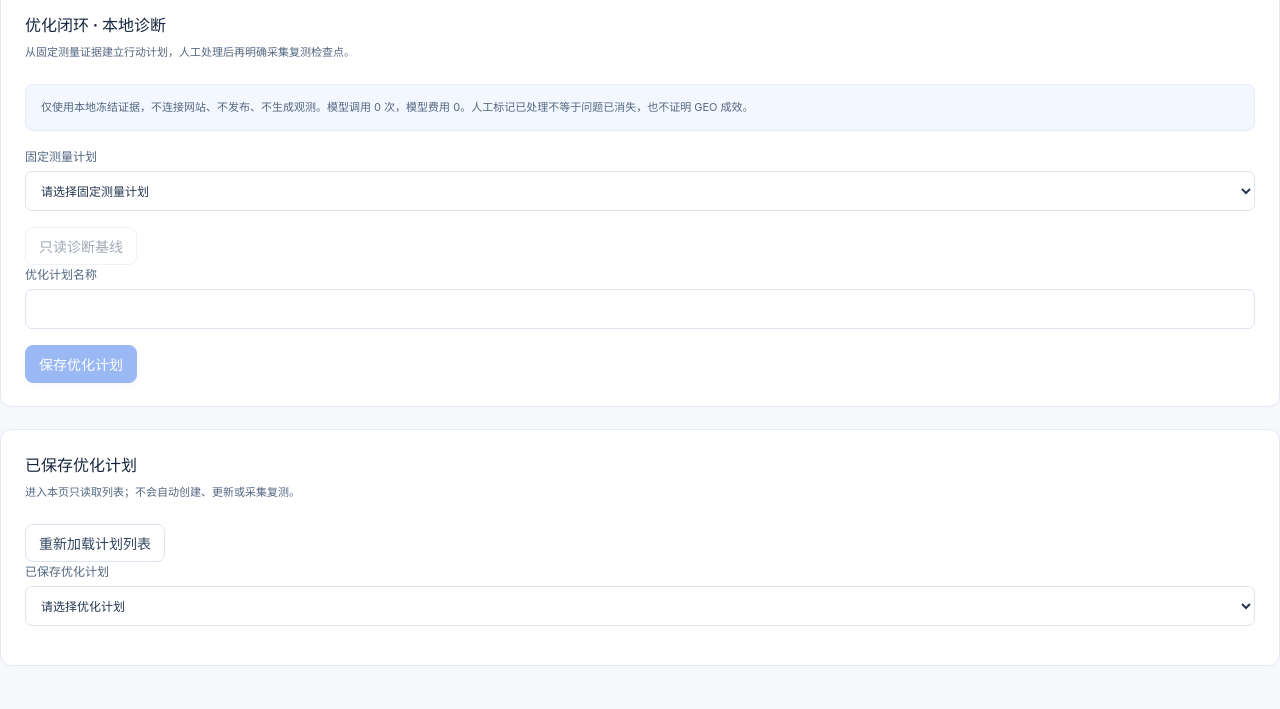
Test: action_status_is_distinct_from_latest_detection_and_requires_done_note
The image size is (1280, 709).
Select "虚构优化计划 · 模拟数据 · v1 · 检查点 1 · 行动 0/1" in the dropdown labelled "已保存优化计划": (640, 606) [25, 586, 1255, 626]
(page scrolled)
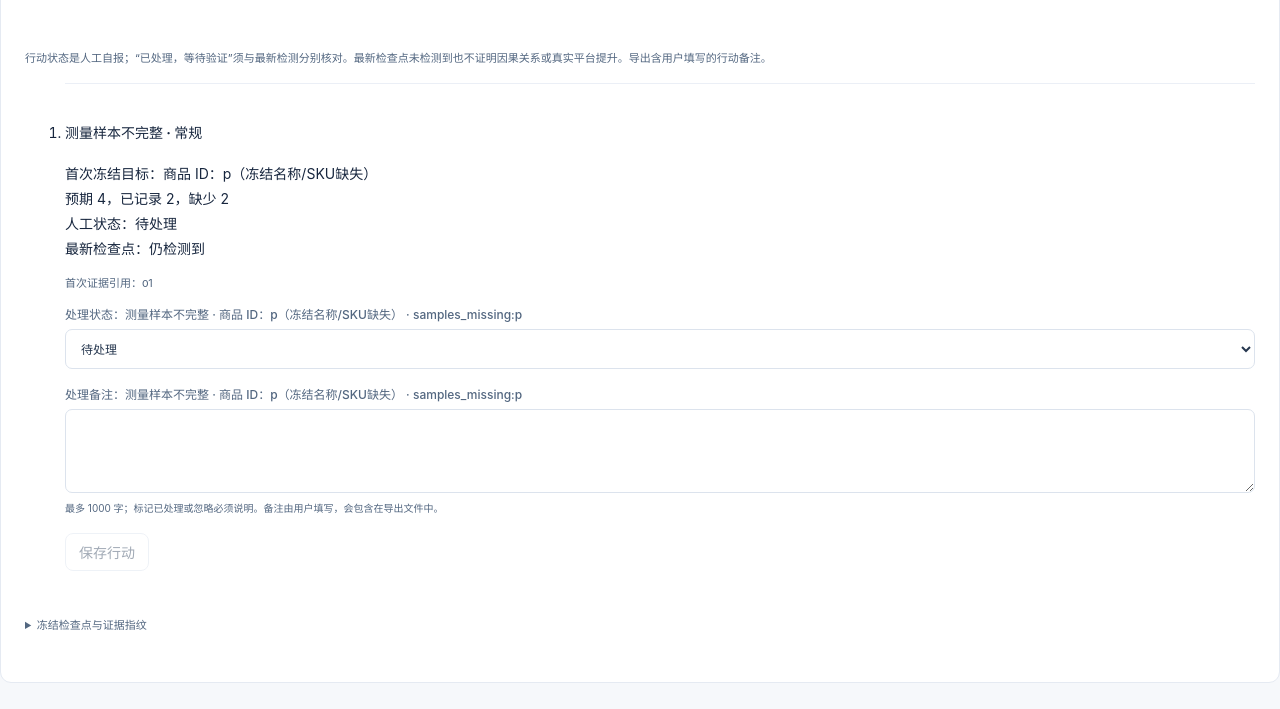
Select "已处理，等待验证" in the dropdown labelled "处理状态：测量样本不完整 · 商品 ID：p（冻结名称/SKU缺失） · samples_missing:p": (660, 349) [65, 329, 1255, 369]
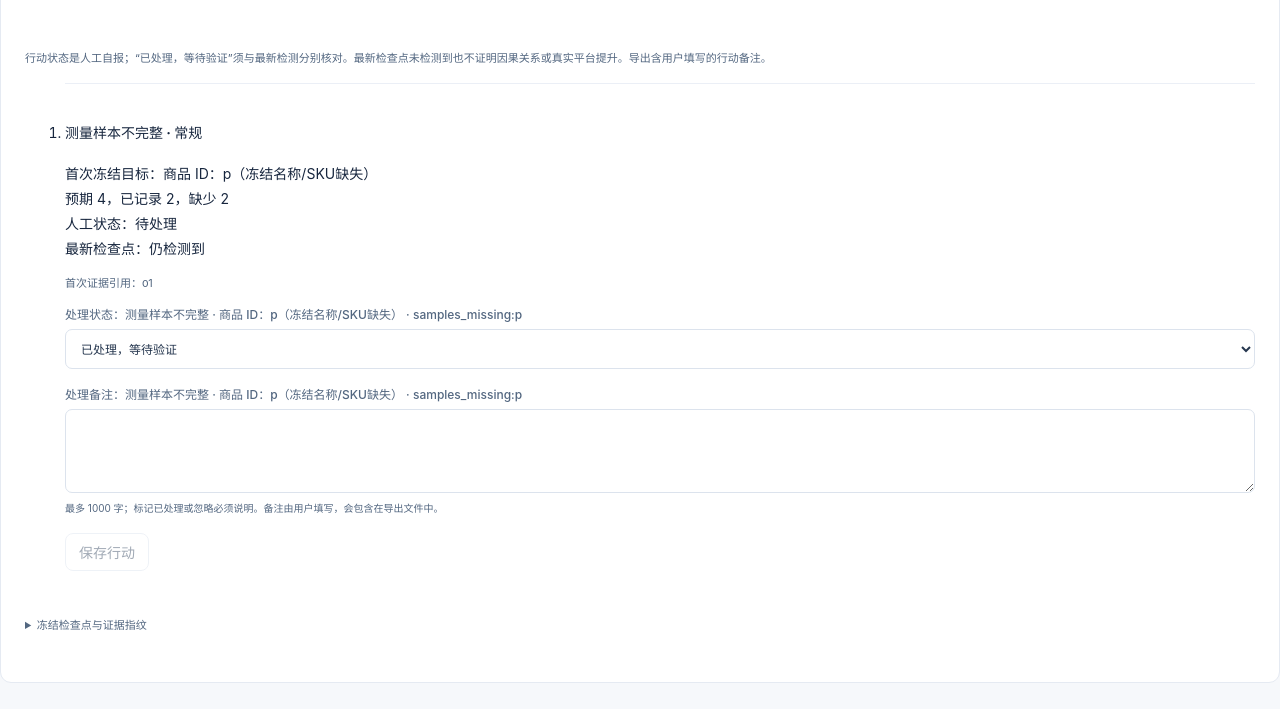
Check: the button named "保存行动：测量样本不完整" is disabled, box [65, 532, 149, 570]
In the text box labelled "处理备注：测量样本不完整 · 商品 ID：p（冻结名称/SKU缺失） · samples_missing:p": (660, 451) [65, 409, 1255, 492], type "已补录，等待复核"
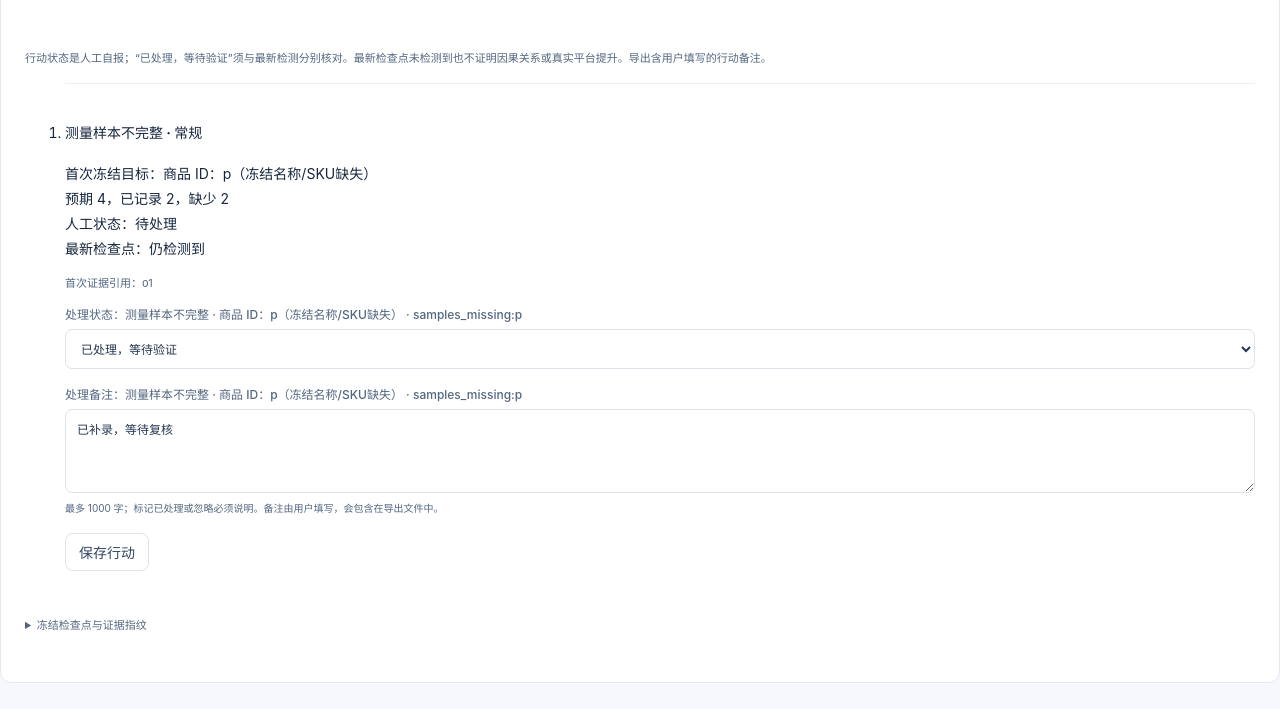
Click the button named "保存行动：测量样本不完整": (107, 552) [65, 532, 149, 570]
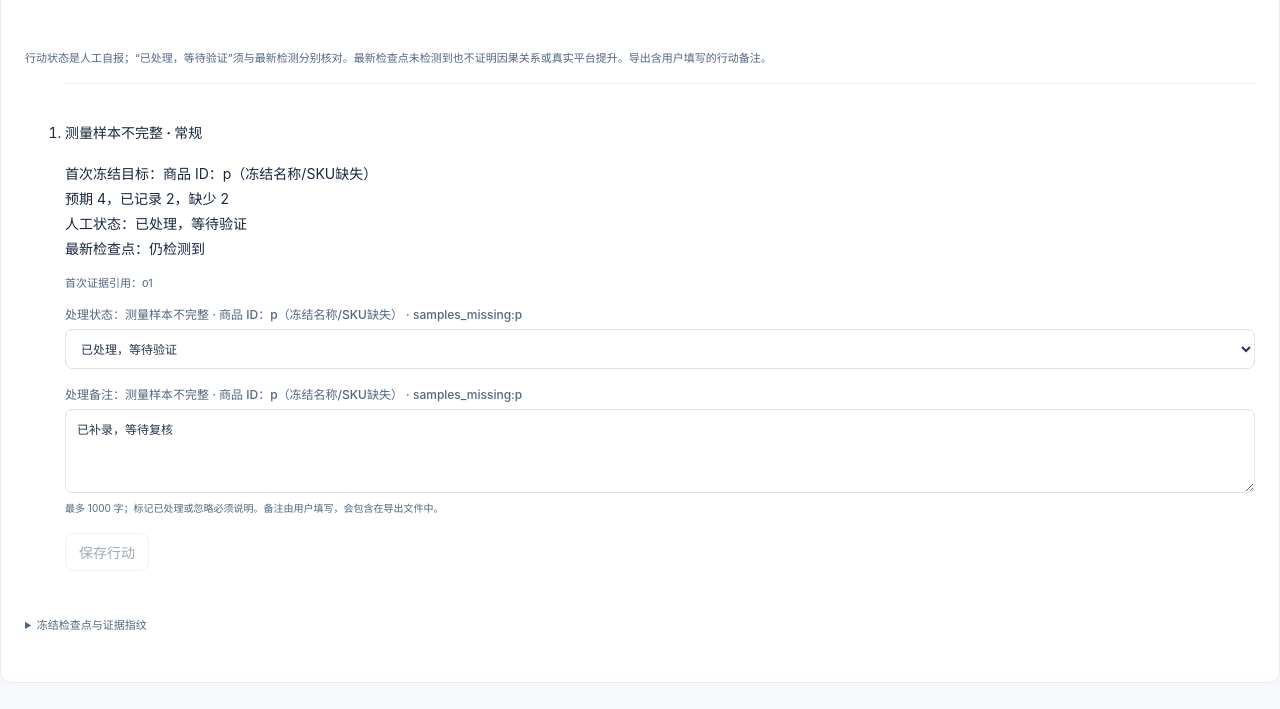
Check: the text "最新检查点：仍检测到" is shown, box [65, 240, 205, 257]
Check: the text "人工状态：已处理，等待验证" is shown, box [65, 215, 247, 232]
